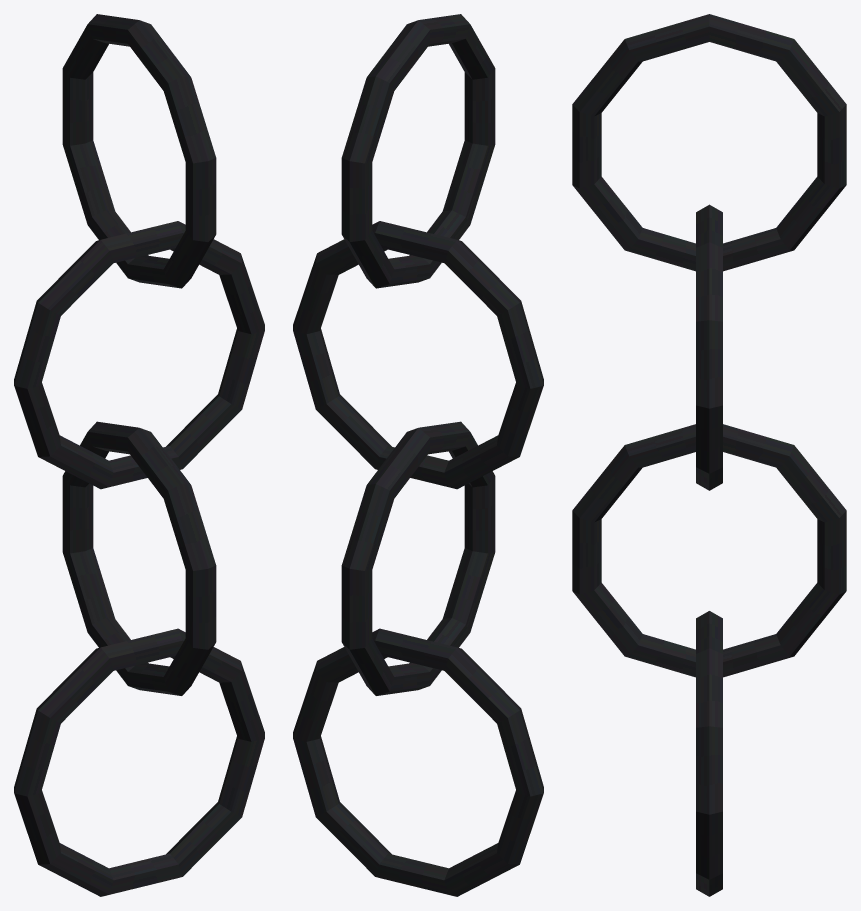
The model's file is pendant_chain.obj.
3 renders of one model, left to right at view 1: azimuth 30°, elevation 25°; view 2: azimuth 150°, elevation 25°; view 3: azimuth 270°, elevation 25°, orthographic.
Visible parts, largest first — view 1: pendant_chain; view 2: pendant_chain; view 3: pendant_chain.
Part boxes in pixels (x1,y1,x2,y2): pendant_chain: (14,14,264,896); pendant_chain: (293,14,543,896); pendant_chain: (572,14,846,896).
Size of the model in its own units: 0.3219 by 1.06 by 0.3061.
